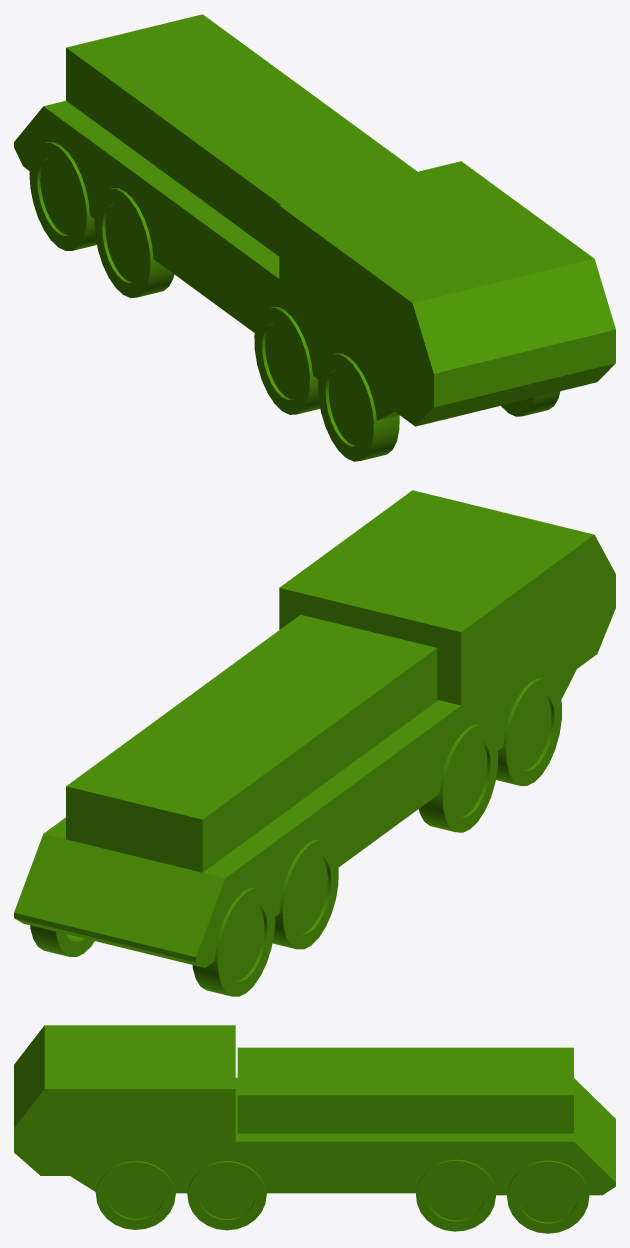
The model's file is Boardgame_Troop_HQ_Token_Green_01.fbx.
3 renders of one model, top to bottom at view 1: azimuth 30°, elevation 25°; view 2: azimuth 150°, elevation 25°; view 3: azimuth 270°, elevation 25°, orthographic. The views are drawn at different scales.
Visible parts, largest first — view 1: Model; view 2: Model; view 3: Model.
Part boxes in pixels (x1,y1,x2,y2): Model: [14, 14, 615, 461]; Model: [14, 490, 615, 996]; Model: [14, 1025, 615, 1233].
Size of the model in its own units: 142 by 144 by 547.
